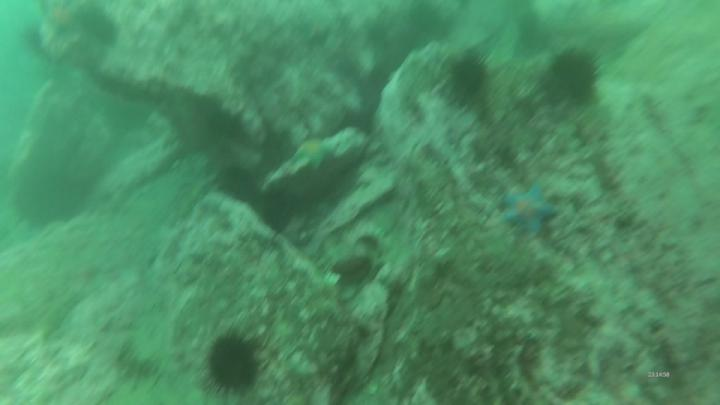echinus: (202, 330, 261, 395), (550, 47, 607, 106), (75, 7, 120, 48), (450, 52, 492, 94), (219, 162, 256, 209), (262, 188, 294, 236), (208, 108, 246, 142)
starfish: (503, 182, 560, 237), (292, 136, 335, 175)
